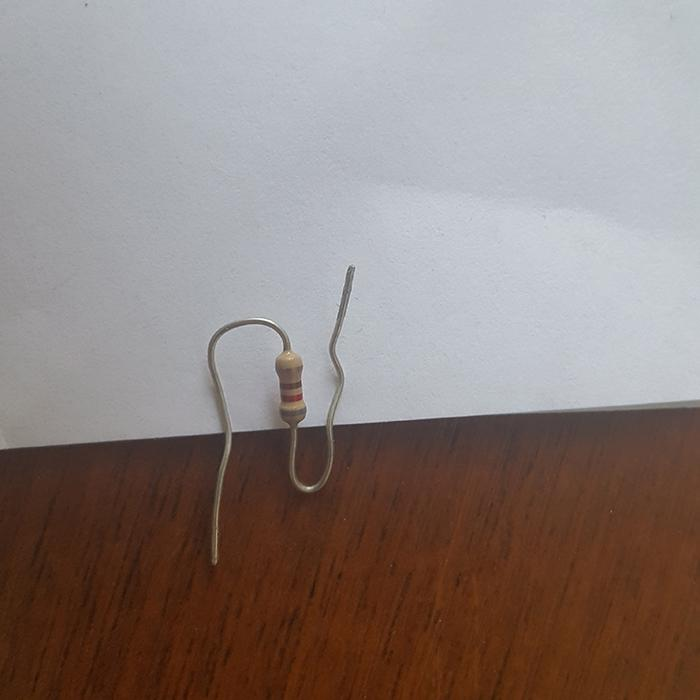resistor: (274, 350, 307, 424)
